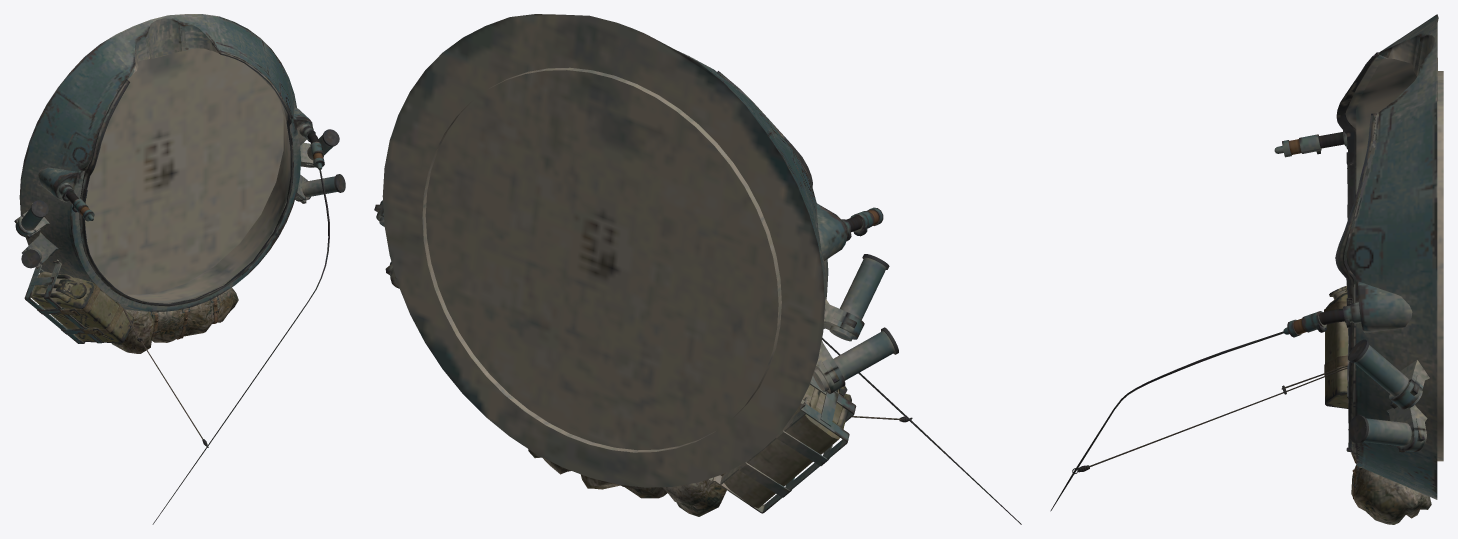
File: Turret_01.glb
The picture shows the model from 3 angles, left to right: view 1: azimuth 30°, elevation 25°; view 2: azimuth 150°, elevation 25°; view 3: azimuth 270°, elevation 25°; orthographic projection. The views are drawn at different scales.
Parts seen in each view (by area): view 1: set_0_group_0; view 2: set_0_group_0; view 3: set_0_group_0.
Part boxes in pixels (bbox=[...]): set_0_group_0: bbox=[14, 14, 345, 524]; set_0_group_0: bbox=[374, 14, 1021, 524]; set_0_group_0: bbox=[1050, 14, 1443, 524].
Bounding box in the file's own units: 2.04 × 2.3 × 1.43.
Materials: 1 (1 with a texture image).
